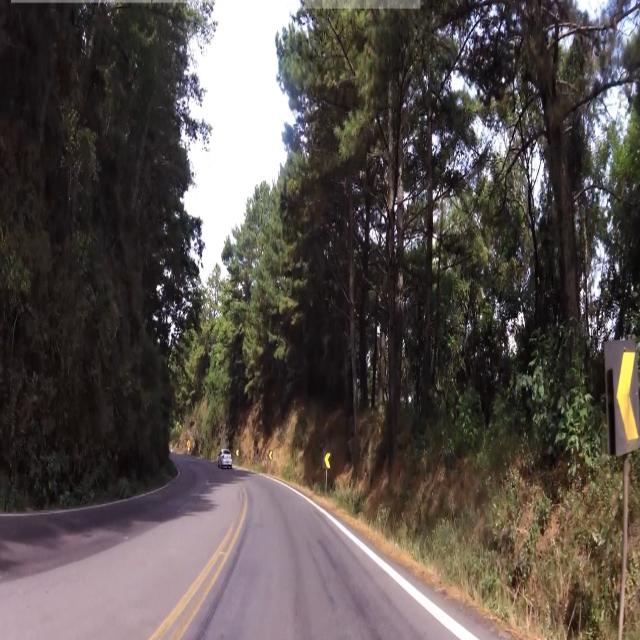Del: (596, 329, 640, 458), (269, 447, 272, 462)
